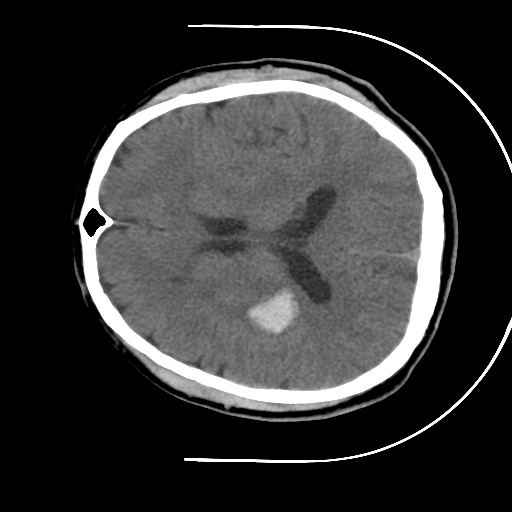a: (233, 271, 310, 345)
